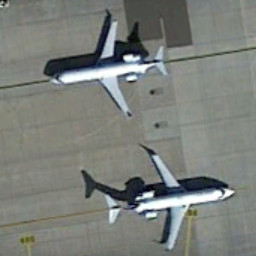Airplane: (92, 139, 250, 256), (32, 7, 183, 126)
